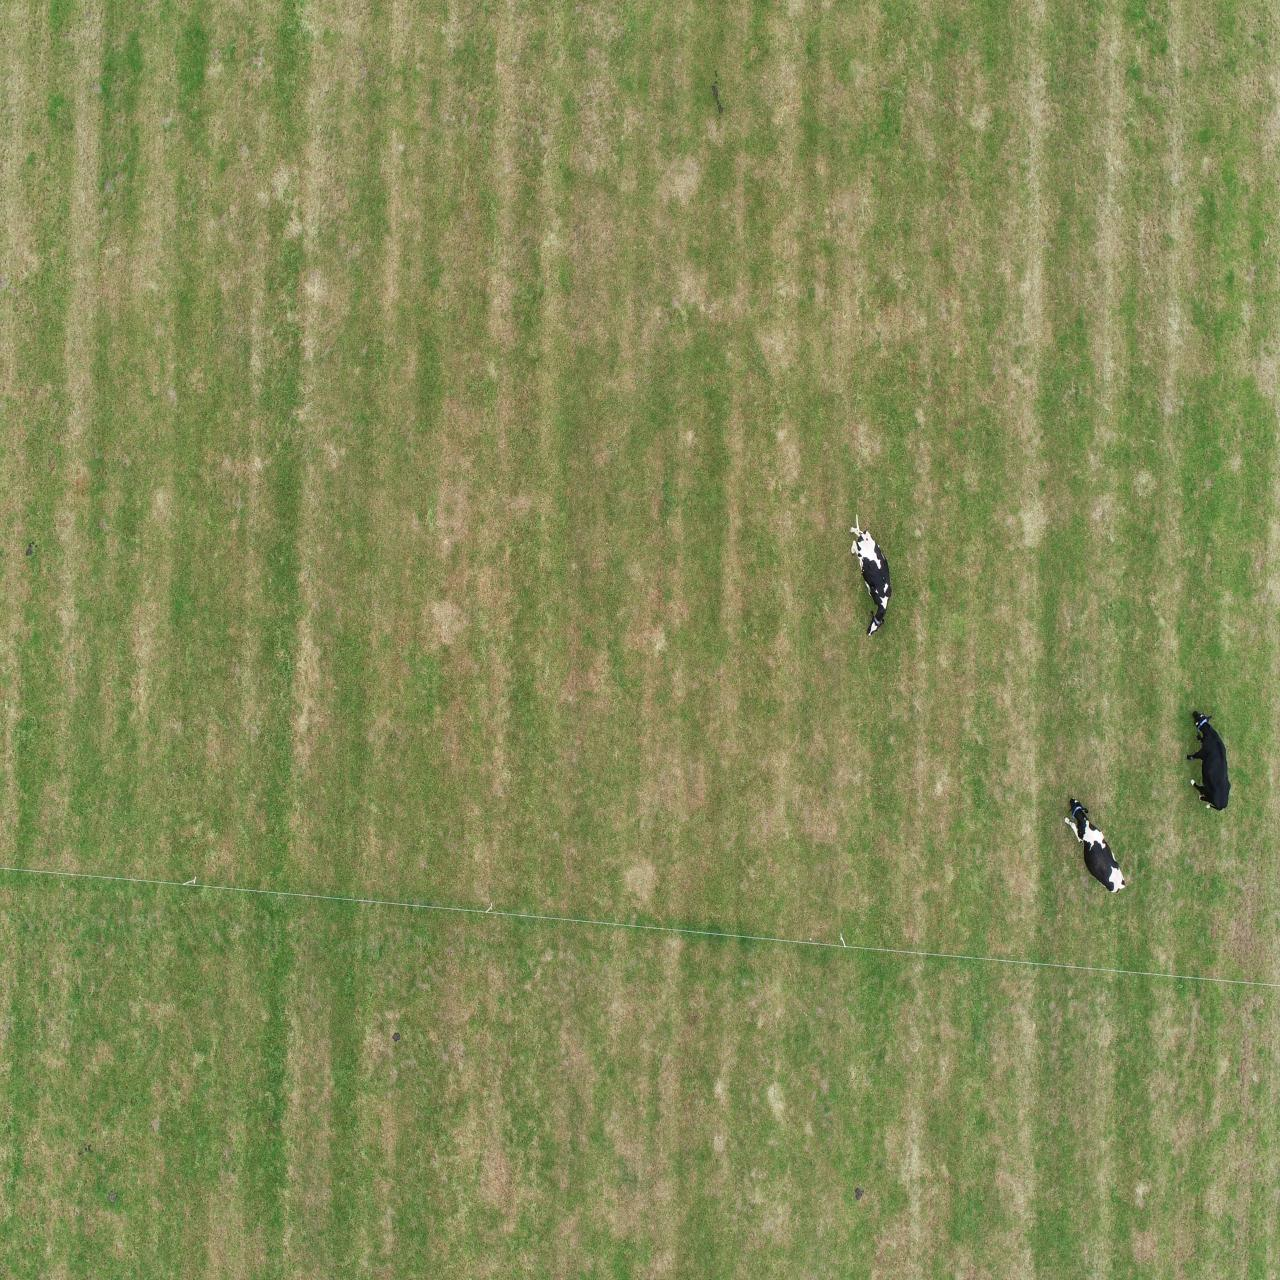cow: (1063, 798, 1125, 893), (850, 516, 891, 636), (1186, 710, 1231, 813)
